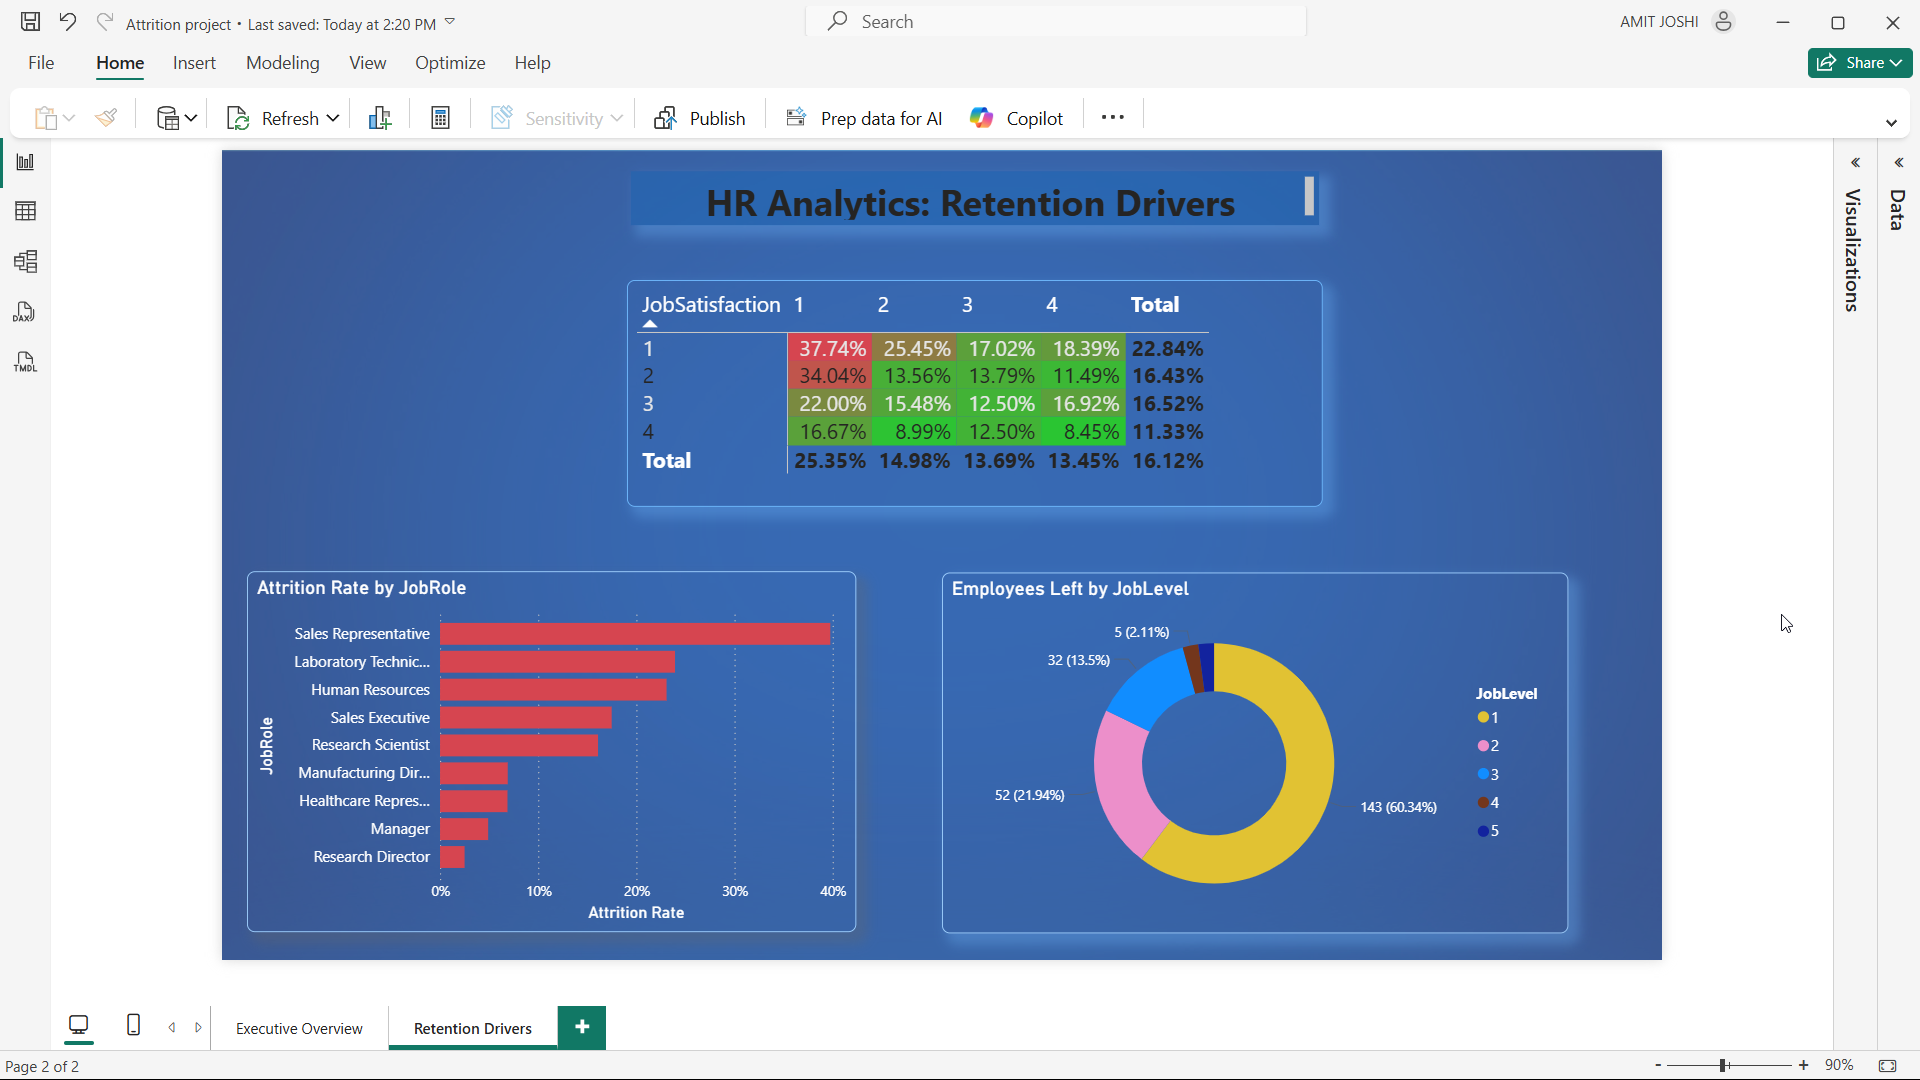

This screenshot's page, from the dashboard's own definition file:
{"tool":"powerbi","page":{"name":"Retention Drivers","canvas":[1280,720],"ordinal":1},"visuals":[{"type":"shape","box":[0,1.1,1280,719.2],"z":500},{"type":"textbox","box":[363.8,19.2,612.4,48],"z":1000},{"type":"pivotTable","fields":{"Rows":["employee_db employee_attrition.JobSatisfaction"],"Columns":["employee_db employee_attrition.EnvironmentSatisfaction"],"Values":["employee_db employee_attrition.Attition Rate"]},"box":[360.2,115.3,618.4,201.7],"z":2000},{"type":"clusteredBarChart","fields":{"Category":["employee_db employee_attrition.JobRole"],"Y":["employee_db employee_attrition.Attition Rate"]},"box":[22.2,374.9,541.8,321.1],"z":3000},{"type":"donutChart","fields":{"Category":["employee_db employee_attrition.JobLevel"],"Y":["employee_db employee_attrition.Employeees Left"]},"box":[640,375.8,557.1,320.6],"z":4000}]}

Visuals, with their boxes on the page's 1280x720 design canvas (x1, y1, x2, y2). These are canvas units, not pixel positions in the 1920x1080 screenshot, which may show the page scaled, cropped or inside an application window:
shape: locate(0, 1, 1280, 720)
textbox: locate(364, 19, 976, 67)
pivotTable - employee_db employee_attrition.JobSatisfaction x employee_db employee_attrition.EnvironmentSatisfaction: locate(360, 115, 979, 317)
clusteredBarChart - employee_db employee_attrition.JobRole x employee_db employee_attrition.Attition Rate: locate(22, 375, 564, 696)
donutChart - employee_db employee_attrition.JobLevel x employee_db employee_attrition.Employeees Left: locate(640, 376, 1197, 696)
